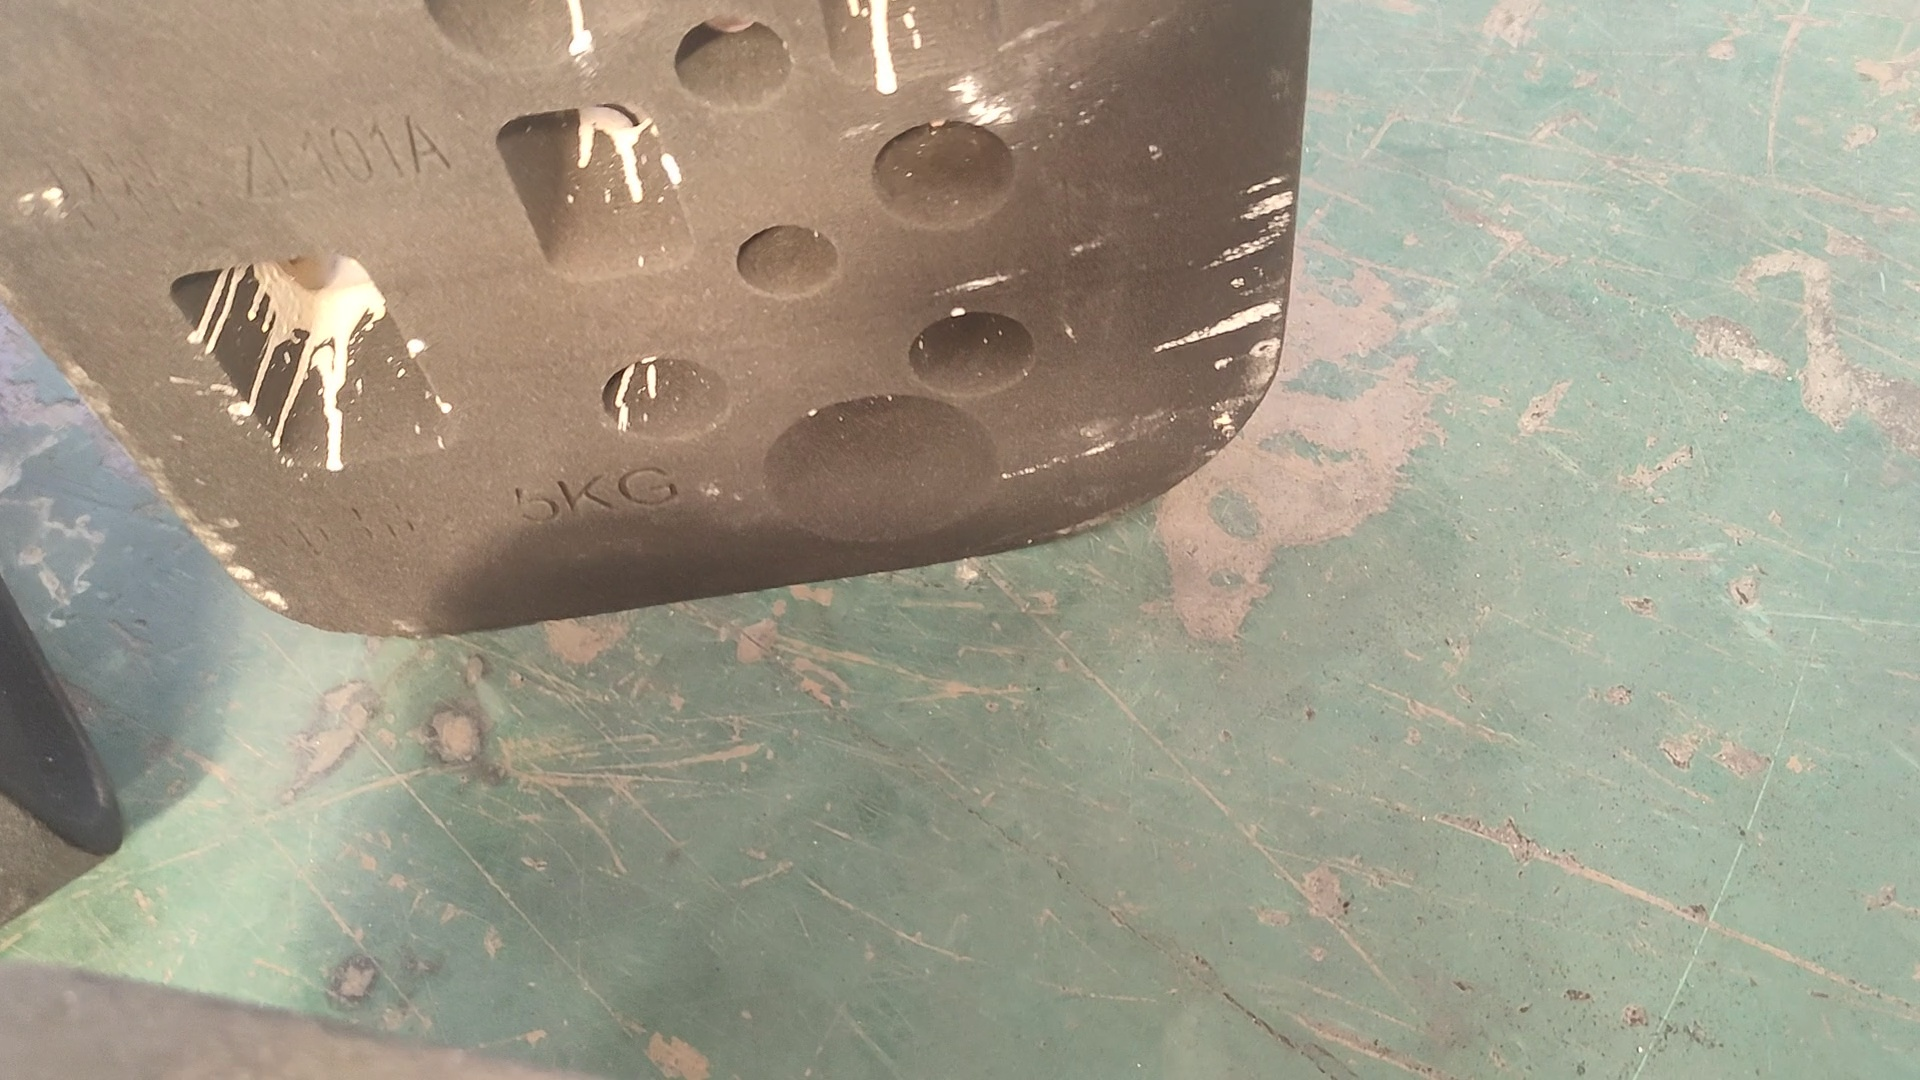pouring hole: (765, 393, 1002, 541)
